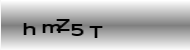5: (70, 22, 83, 36)
T: (87, 24, 103, 39)
Z: (56, 17, 70, 32)
h: (21, 21, 36, 37)
m: (40, 22, 61, 35)
